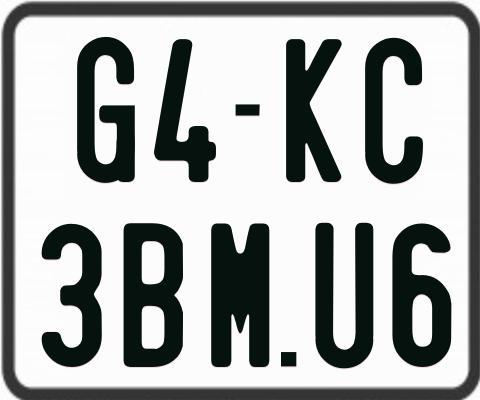3: (40, 224, 100, 372)
4: (151, 37, 219, 180)
6: (391, 224, 454, 369)
B: (122, 220, 181, 369)
C: (362, 38, 421, 189)
G: (74, 34, 132, 181)
K: (283, 38, 340, 187)
M: (209, 223, 268, 368)
U: (313, 223, 375, 373)
